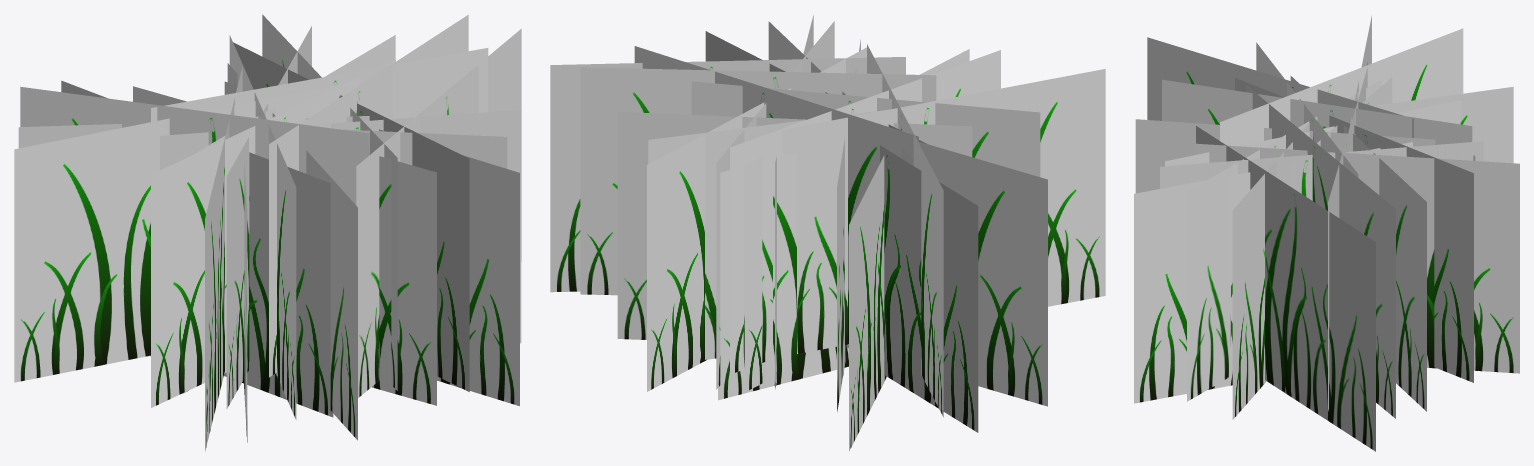
The model's file is grass_medium.fbx.
3 renders of one model, left to right at view 1: azimuth 30°, elevation 25°; view 2: azimuth 150°, elevation 25°; view 3: azimuth 270°, elevation 25°, orthographic. The views are drawn at different scales.
Visible parts, largest first — view 1: MASH1_ReproMesh; view 2: MASH1_ReproMesh; view 3: MASH1_ReproMesh.
Part boxes in pixels (box(x1,y1,x2,y2)): MASH1_ReproMesh: box(14, 14, 521, 451); MASH1_ReproMesh: box(550, 15, 1105, 451); MASH1_ReproMesh: box(1134, 15, 1519, 451).
Size of the model in its own units: 30.29 by 15.08 by 22.1.
